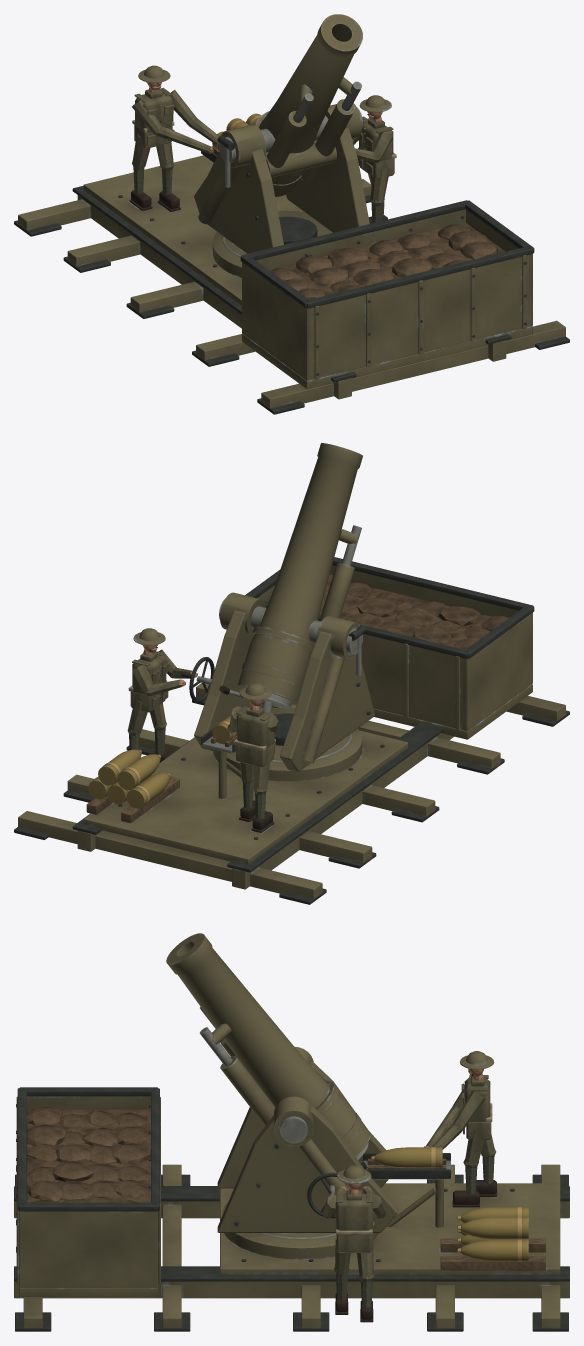
3 renders of one model, top to bottom at view 1: azimuth 30°, elevation 25°; view 2: azimuth 150°, elevation 25°; view 3: azimuth 270°, elevation 25°, orthographic. The views are drawn at different scales.
Visible parts, largest first — view 1: Earth_box, Firing_bed, Mount, Ballast, Barrel, Gunner_at_breech_Service_dress, Cradle, Gunner_at_elevation_Service_dress; view 2: Firing_bed, Earth_box, Mount, Barrel, Ballast, Gunner_at_breech_Service_dress, Gunner_at_elevation_Service_dress, Shell_stack, Cradle, Ammunition_dunnage, Loading_tray; view 3: Firing_bed, Earth_box, Mount, Ballast, Barrel, Gunner_at_breech_Service_dress, Gunner_at_elevation_Service_dress, Shell_stack, Cradle, Loading_tray, Ammunition_dunnage, Tray_shell.
Boxes of the visible parts, left/top/right/bottom form: Earth_box: left=240, top=200, right=534, bottom=389; Firing_bed: left=14, top=155, right=569, bottom=414; Mount: left=194, top=103, right=369, bottom=277; Ballast: left=269, top=222, right=507, bottom=299; Barrel: left=255, top=14, right=362, bottom=196; Gunner_at_breech_Service_dress: left=129, top=82, right=219, bottom=211; Cradle: left=265, top=77, right=361, bottom=184; Gunner_at_elevation_Service_dress: left=352, top=111, right=396, bottom=223; Firing_bed: left=14, top=683, right=569, bottom=904; Earth_box: left=245, top=557, right=534, bottom=739; Mount: left=181, top=592, right=374, bottom=781; Barrel: left=237, top=443, right=362, bottom=704; Ballast: left=319, top=574, right=508, bottom=649; Gunner_at_breech_Service_dress: left=227, top=699, right=278, bottom=832; Gunner_at_elevation_Service_dress: left=127, top=644, right=197, bottom=762; Shell_stack: left=88, top=749, right=170, bottom=808; Cradle: left=319, top=525, right=361, bottom=621; Ammunition_dunnage: left=86, top=776, right=179, bottom=823; Loading_tray: left=201, top=707, right=274, bottom=798; Firing_bed: left=14, top=1164, right=569, bottom=1331; Earth_box: left=16, top=1087, right=160, bottom=1297; Mount: left=217, top=1046, right=397, bottom=1259; Ballast: left=26, top=1107, right=150, bottom=1202; Barrel: left=166, top=933, right=370, bottom=1156; Gunner_at_breech_Service_dress: left=424, top=1069, right=497, bottom=1207; Gunner_at_elevation_Service_dress: left=322, top=1183, right=386, bottom=1322; Shell_stack: left=457, top=1207, right=528, bottom=1261; Cradle: left=199, top=1007, right=275, bottom=1125; Loading_tray: left=363, top=1153, right=450, bottom=1227; Ammunition_dunnage: left=440, top=1238, right=545, bottom=1270; Tray_shell: left=371, top=1147, right=442, bottom=1167.
Size of the model in its own units: 3.8 by 3.66 by 5.8.
Materials: 1 (1 with a texture image).
